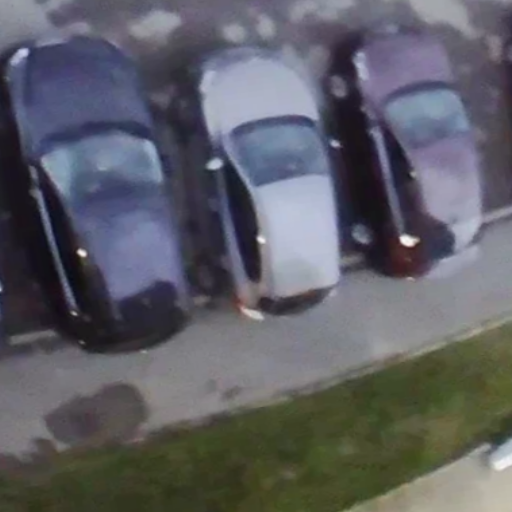Car: (0, 35, 196, 355), (187, 46, 338, 323), (344, 30, 484, 279)
